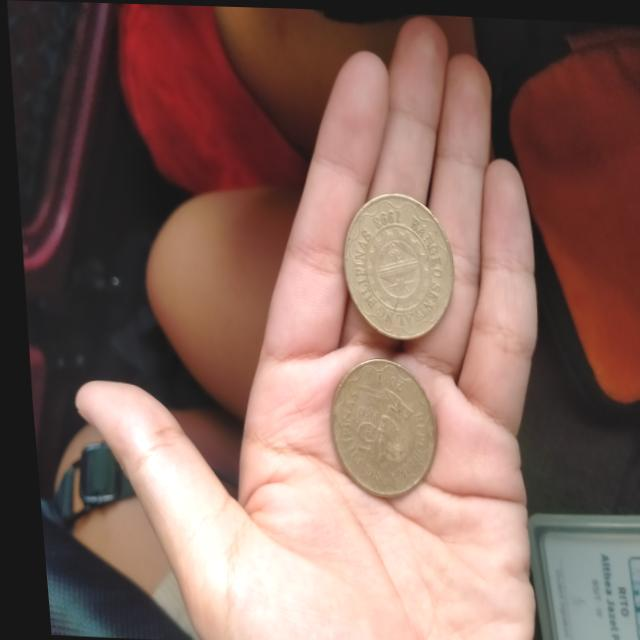5_Old_Back: (329, 187, 452, 336)
5_Old_Front: (330, 396, 377, 460)
